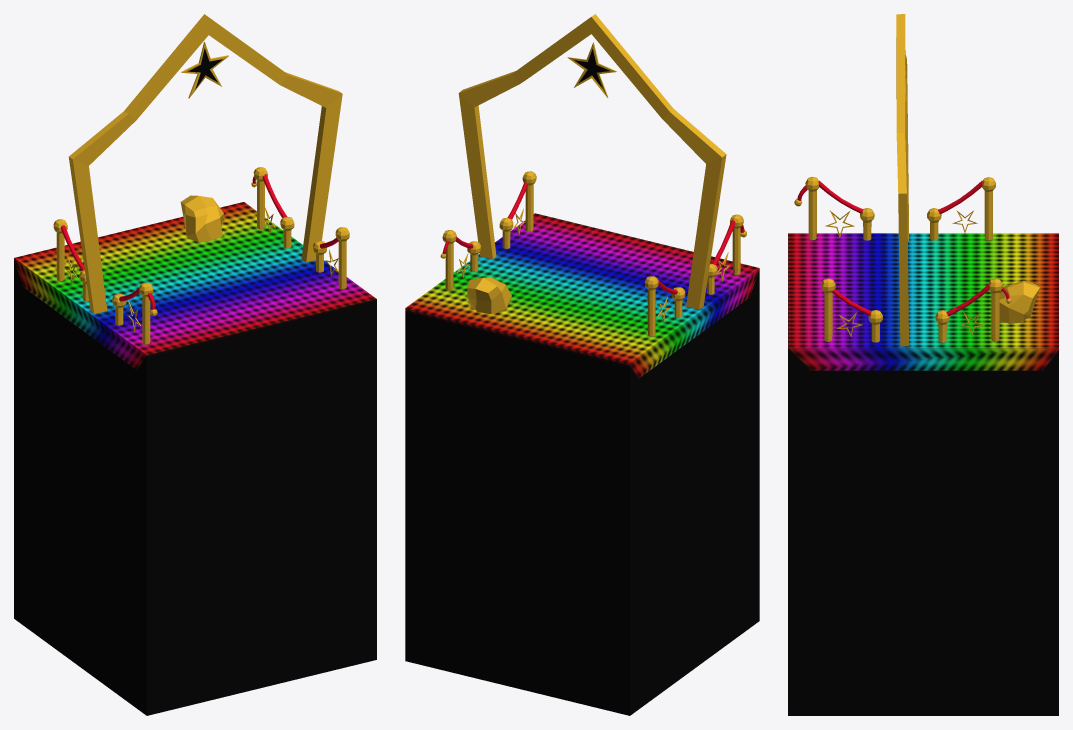
Rendered from Plataforma Medio 1.fbx.
3 renders of one model, left to right at view 1: azimuth 30°, elevation 25°; view 2: azimuth 150°, elevation 25°; view 3: azimuth 270°, elevation 25°, orthographic. The views are drawn at different scales.
Visible parts, largest first — view 1: Plataforma Mitad 1, Plane.037, Cube.006, Cube.010, Cube.016, Plane.038; view 2: Plataforma Mitad 1, Plane.037, Cube.006, Cube.010, Cube.016, Plane.038; view 3: Plataforma Mitad 1, Cube.006, Plane.037, Cube.010, Cube.016.
Boxes of the visible parts, <box> form: Plataforma Mitad 1: <box>14,202,376,715</box>; Plane.037: <box>68,14,342,313</box>; Cube.006: <box>53,167,349,344</box>; Cube.010: <box>180,195,223,242</box>; Cube.016: <box>61,174,338,315</box>; Plane.038: <box>181,42,228,98</box>; Plataforma Mitad 1: <box>405,213,759,715</box>; Plane.037: <box>458,14,726,309</box>; Cube.006: <box>442,171,743,336</box>; Cube.010: <box>467,277,511,314</box>; Cube.016: <box>440,182,746,294</box>; Plane.038: <box>567,42,616,97</box>; Plataforma Mitad 1: <box>788,233,1058,715</box>; Cube.006: <box>805,176,1002,342</box>; Plane.037: <box>896,14,909,346</box>; Cube.010: <box>999,280,1039,323</box>; Cube.016: <box>794,180,1011,316</box>.
Bounding box in the file's own units: 1174 × 2626 × 1000.
1 material, 1 textured.
